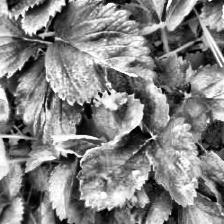Powdery Mildew Leaf: (76, 134, 152, 211), (146, 117, 202, 208), (105, 66, 170, 136), (89, 88, 145, 142), (50, 134, 106, 157), (119, 0, 168, 22)
